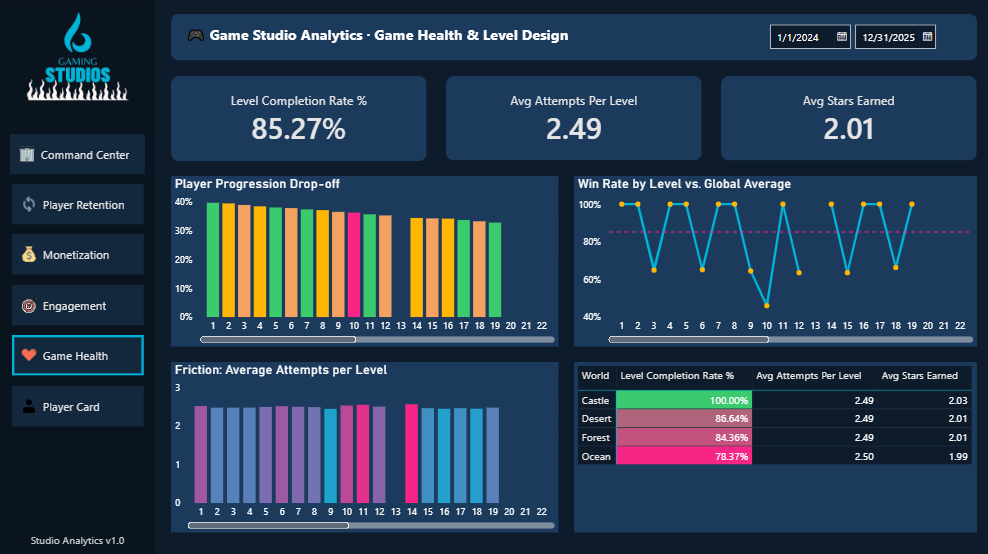

The dashboard page shown, as its layout file describes it:
{"tool":"powerbi","page":{"name":"Game Health","canvas":[1280,720],"ordinal":4},"visuals":[{"type":"shape","box":[0,0,199.8,720],"z":0},{"type":"image","box":[15.6,0,170.1,131.8],"z":1000},{"type":"textbox","box":[0,684.6,199.8,35.4],"z":2000},{"type":"actionButton","box":[12.8,175.7,174.3,52.4],"z":3000},{"type":"actionButton","box":[15.6,240,170.1,52.4],"z":4000},{"type":"actionButton","box":[15.6,305,170.1,52.4],"z":5000},{"type":"actionButton","box":[15.6,370,170.1,52.4],"z":6000},{"type":"actionButton","box":[15.6,435,170.1,52.4],"z":7000},{"type":"actionButton","box":[15.6,500,170.1,52.4],"z":8000},{"type":"shape","box":[220,20,1040,60],"z":9000},{"type":"textbox","box":[235.3,29.8,523,38.3],"z":10000},{"type":"slicer","fields":{"Values":["dim_date.date_key"]},"box":[980,25,260,50],"z":11000},{"type":"cardVisual","fields":{"Data":["_Measures.Level Completion Rate %"]},"box":[220.2,100,330.3,110.1],"z":12000},{"type":"cardVisual","fields":{"Data":["_Measures.Avg Attempts Per Level"]},"box":[575,100,330.2,109.1],"z":13000},{"type":"cardVisual","fields":{"Data":["_Measures.Avg Stars Earned"]},"box":[930,100,330.2,109.1],"z":14000},{"type":"clusteredColumnChart","title":"Player Progression Drop-off","fields":{"Category":["dim_levels.level_number"],"Y":["_Measures.% of Players Reached"]},"box":[220,230,500,220],"z":15000},{"type":"lineChart","title":"Win Rate by Level vs. Global Average","fields":{"Category":["dim_levels.level_number"],"Y":["_Measures.Level Completion Rate %"]},"box":[740,230,520,220],"z":16000},{"type":"clusteredColumnChart","title":"Friction: Average Attempts per Level","fields":{"Category":["dim_levels.level_number"],"Y":["_Measures.Avg Attempts Per Level"]},"box":[220,470,500,220],"z":17000},{"type":"pivotTable","fields":{"Rows":["dim_levels.world"],"Values":["_Measures.Level Completion Rate %","_Measures.Avg Attempts Per Level","_Measures.Avg Stars Earned"]},"box":[740,470,520,220],"z":18000}]}

Visuals, with their boxes in screenshot pixels (x1, y1, x2, y2), scaled from the page's 1280x720 canvas onto the 988x554 screenshot:
shape: (0,0,154,553)
image: (12,0,143,101)
textbox: (0,527,154,553)
actionButton: (10,135,144,176)
actionButton: (12,185,143,225)
actionButton: (12,235,143,275)
actionButton: (12,285,143,325)
actionButton: (12,335,143,375)
actionButton: (12,385,143,425)
shape: (170,15,973,62)
textbox: (182,23,585,52)
slicer - dim_date.date_key: (756,19,957,58)
cardVisual - _Measures.Level Completion Rate %: (170,77,425,162)
cardVisual - _Measures.Avg Attempts Per Level: (444,77,699,161)
cardVisual - _Measures.Avg Stars Earned: (718,77,973,161)
"Player Progression Drop-off" clusteredColumnChart: (170,177,556,346)
"Win Rate by Level vs. Global Average" lineChart: (571,177,973,346)
"Friction: Average Attempts per Level" clusteredColumnChart: (170,362,556,531)
pivotTable - dim_levels.world x _Measures.Level Completion Rate %: (571,362,973,531)
